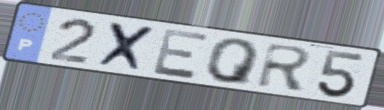2: (47, 17, 99, 66)
5: (314, 48, 367, 100)
E: (150, 27, 212, 81)
Q: (204, 38, 263, 87)
R: (254, 41, 315, 93)
X: (95, 20, 161, 74)
